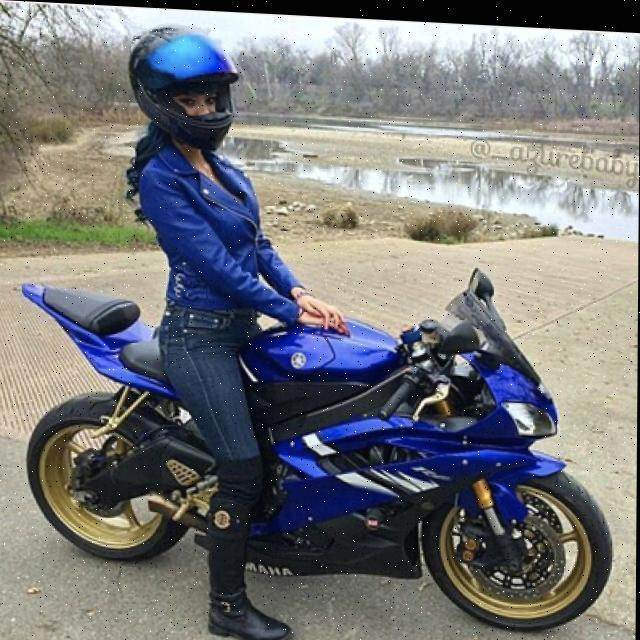Helmet: (118, 18, 244, 152)
